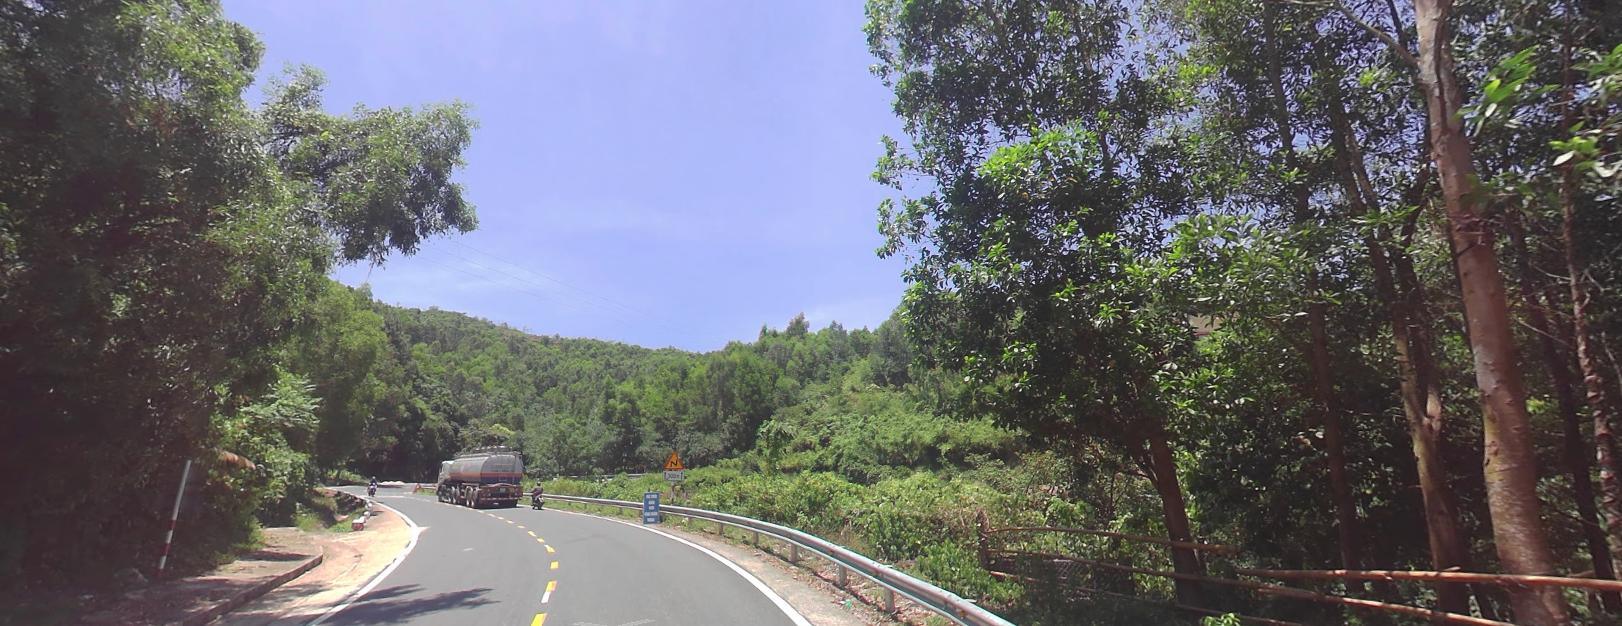Nguy hiem: (662, 449, 683, 467)
